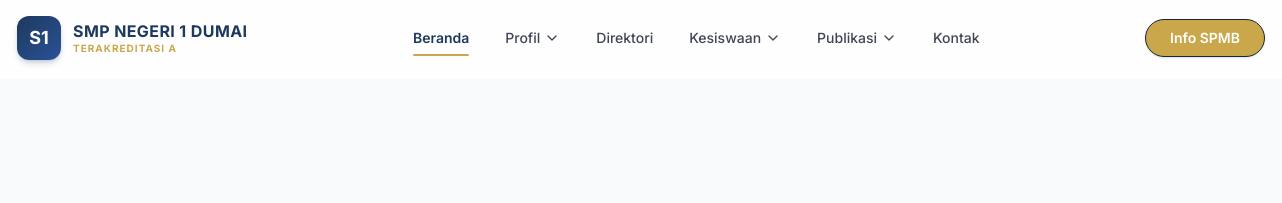
Navbar › Dropdown navigasi saat hover › menampilkan dropdown Profil saat mouseEnter
Hover over the element "Profil": (533, 38) [493,20,572,56]
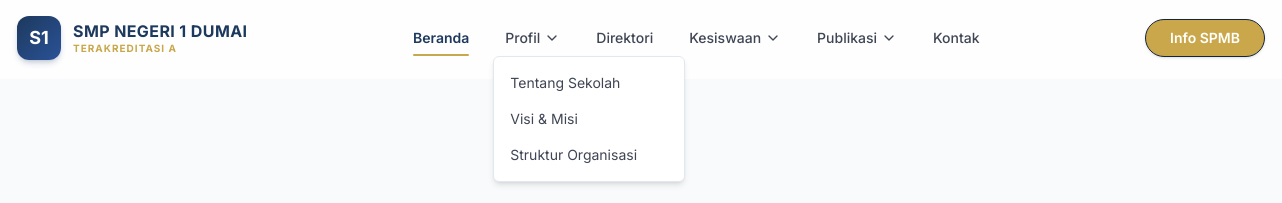
Expected: the link "Tentang Sekolah" is shown, [510,74,620,91]
Expected: the link "Visi & Misi" is shown, [510,110,578,127]
Expected: the link "Struktur Organisasi" is shown, [510,146,637,163]
